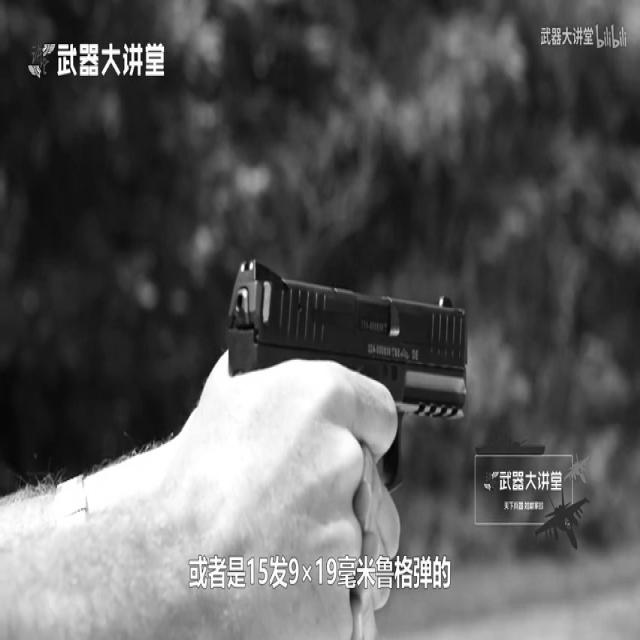Hand-Gun: (208, 237, 474, 600)
